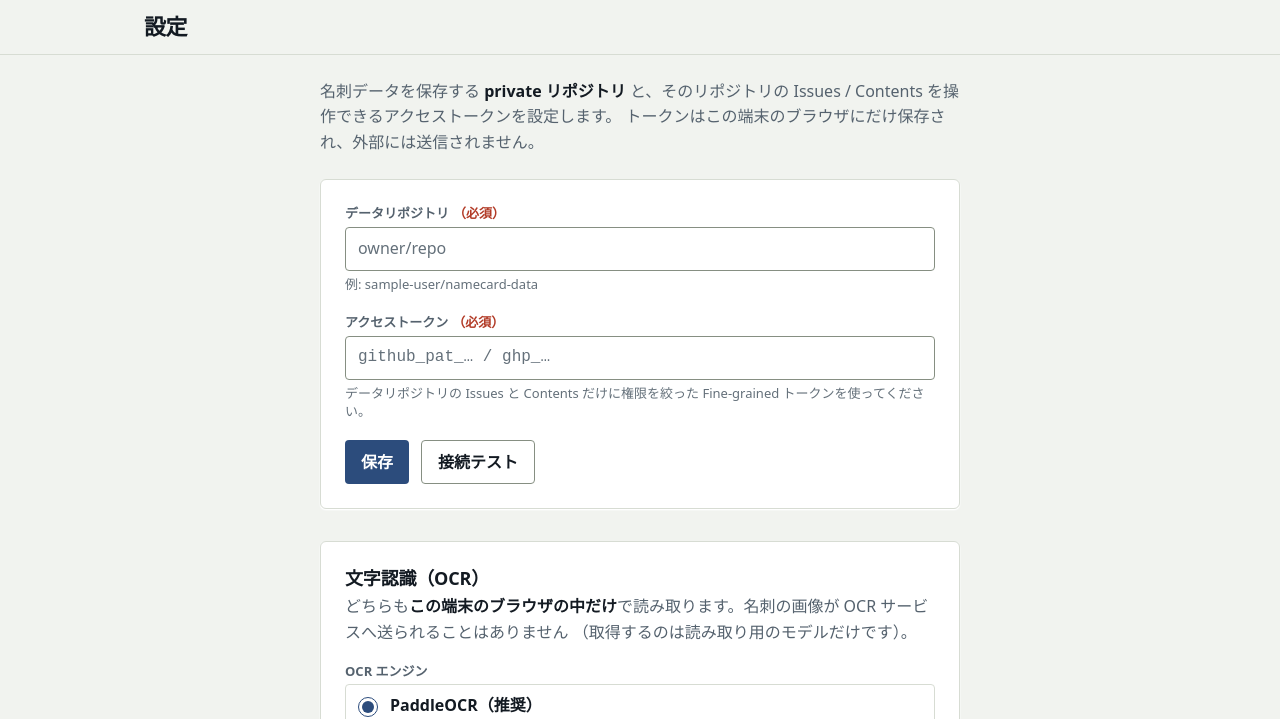
Scenario: 設定画面 / 接続テストのエラー分岐 › 成功すると 接続できました と出る
Type "sample-user/namecard-data" into the field labelled "データリポジトリ（必須）". click: (640, 249)
box: [345, 227, 935, 271]
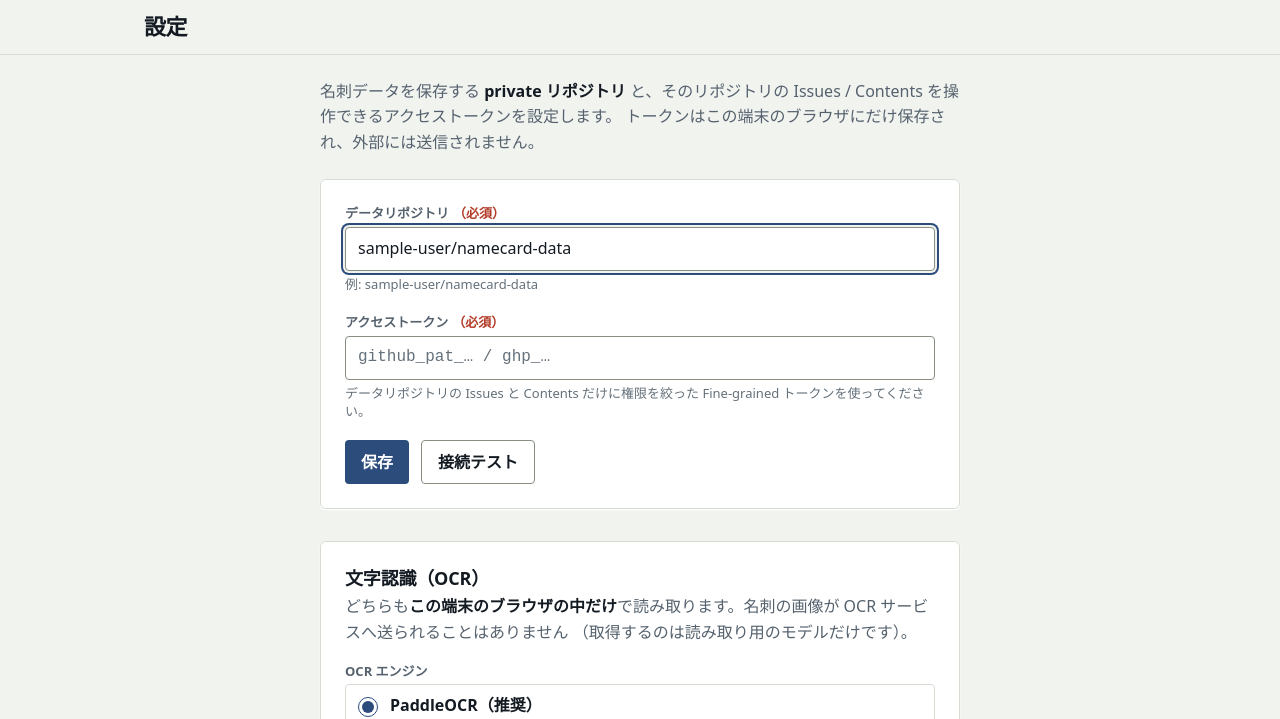
Type "ghp_dummy" into the password field named "アクセストークン". click: (640, 358)
box: [345, 336, 935, 380]
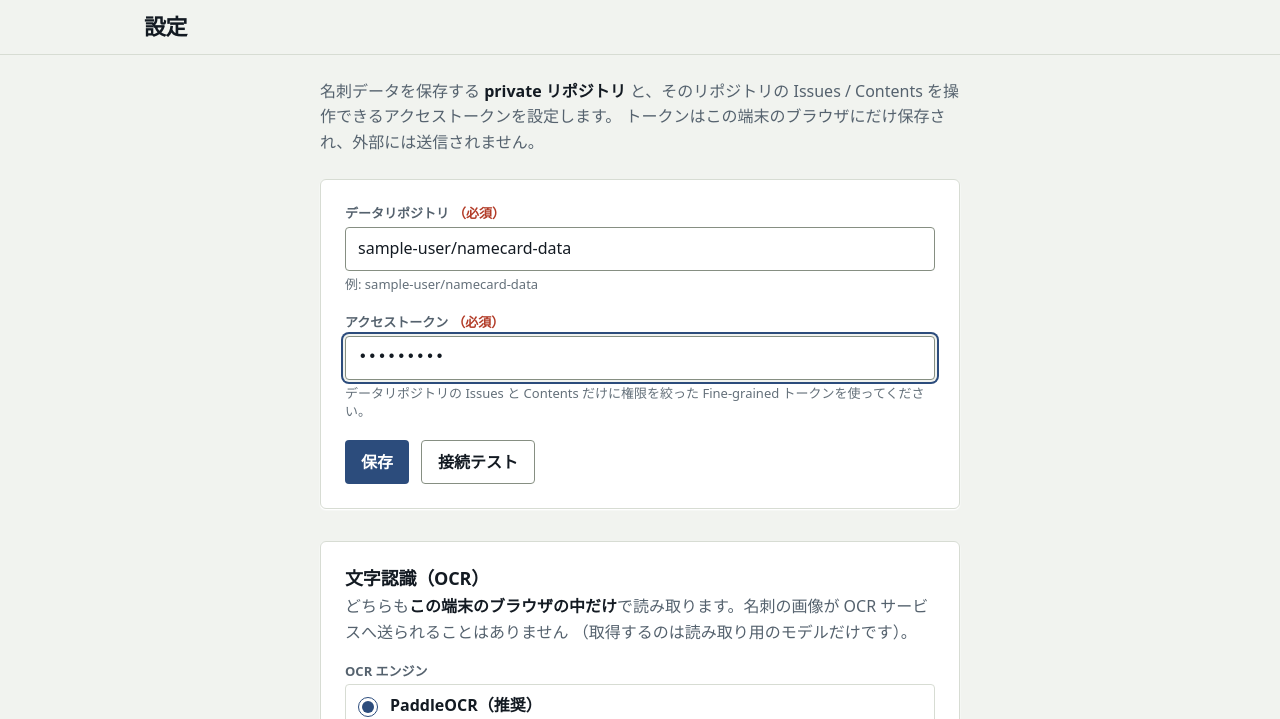
Click the button "接続テスト". click: (478, 462)
box: [421, 440, 535, 484]
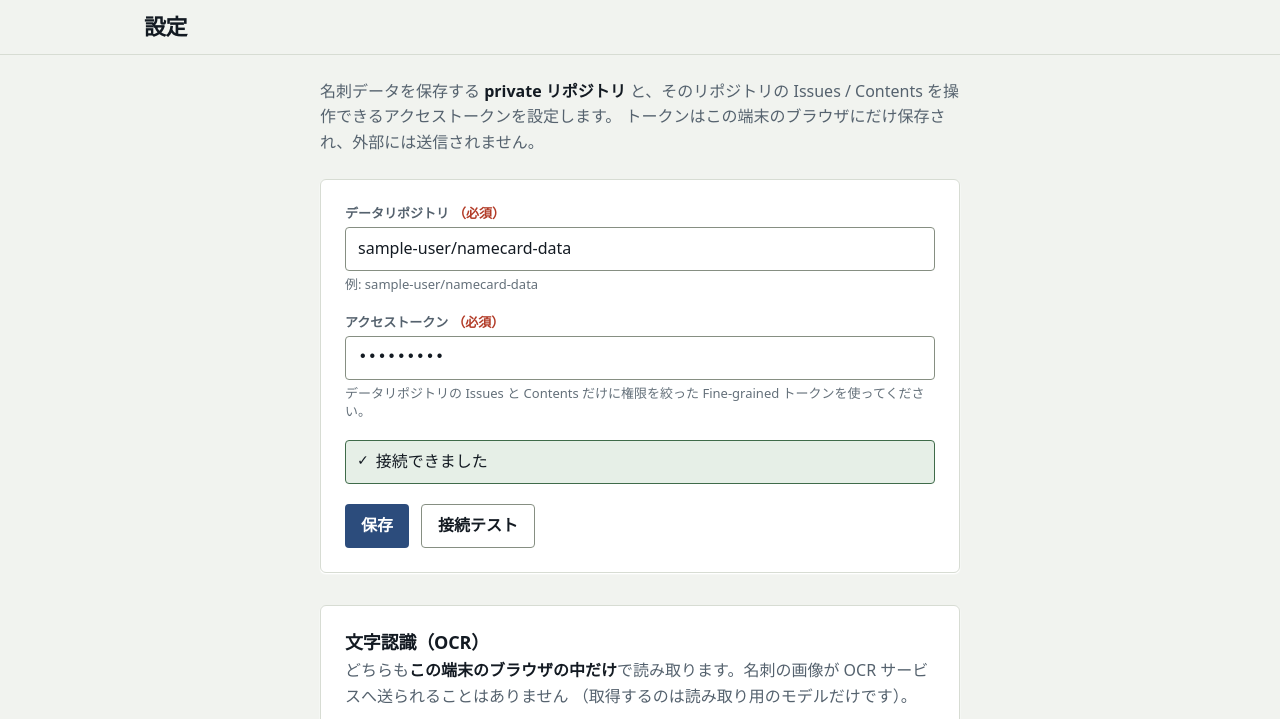
expect the text "接続できました" is shown: met, box [376, 449, 488, 475]
